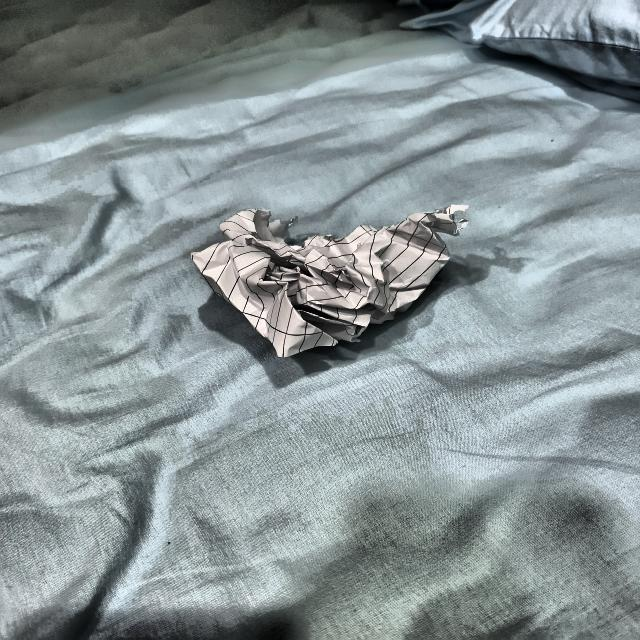Paper: (202, 206, 464, 354)
